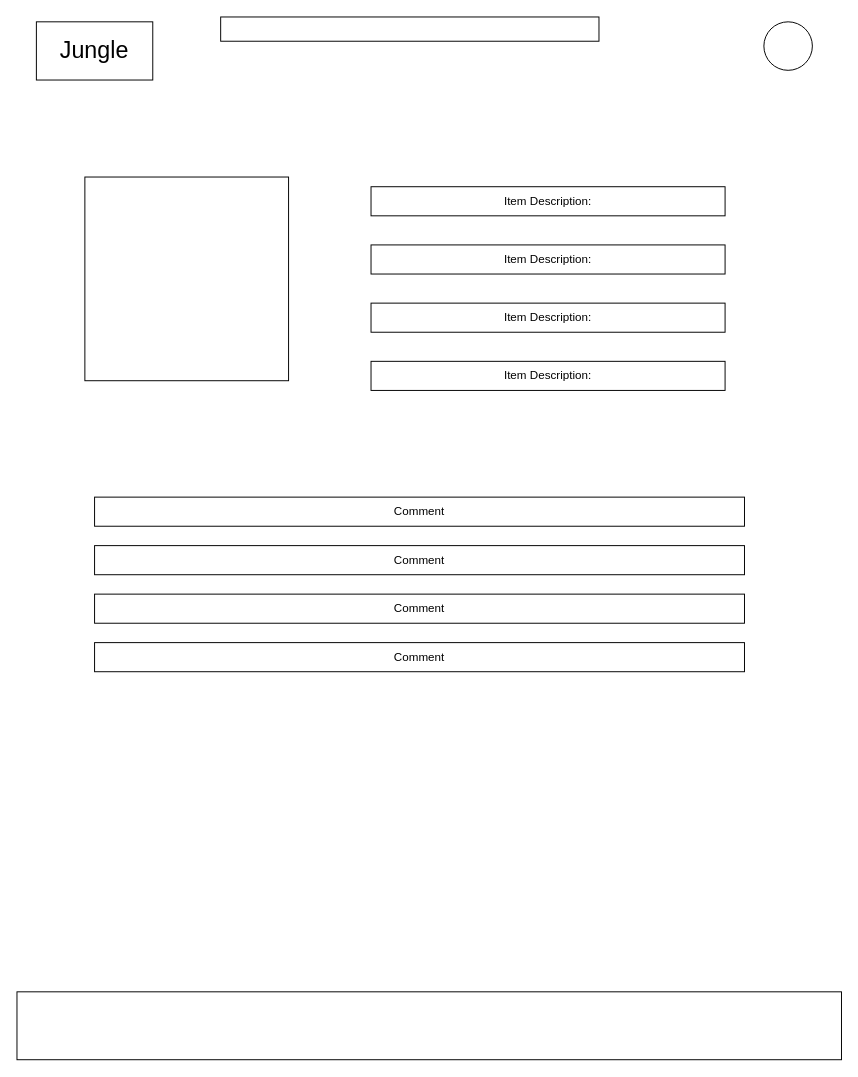
Image size: 858x1077. Some labels were removed from this diagram. The shapes that lost their labels are listed below. From the top down, each one's box as (x1, y1, x2, y2) in pixels, then its label:
(220, 16, 599, 41): Search Bar
(763, 21, 812, 70): Profile Pic
(84, 176, 289, 381): Item Pic
(16, 991, 841, 1060): Footer
